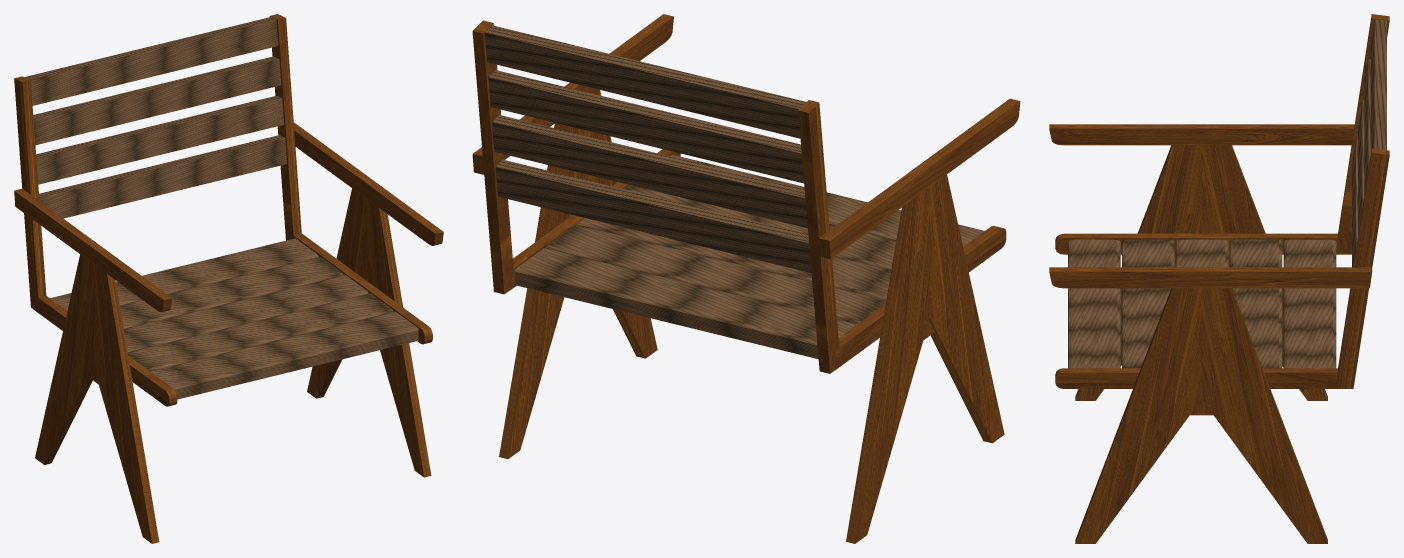
Rendered from Lulu-Chair.glb.
3 renders of one model, left to right at view 1: azimuth 30°, elevation 25°; view 2: azimuth 150°, elevation 25°; view 3: azimuth 270°, elevation 25°, orthographic. The views are drawn at different scales.
Parts seen in each view (by area): view 1: Cube.007, Cube.008, Cube.003, Cube.004, Cube.006, Cube.002; view 2: Cube.007, Cube.008, Cube.003, Cube.006, Cube.004, Cube.002; view 3: Cube.003, Cube.008, Cube.004, Cube.006, Cube.002, Cube.007.
Part boxes in pixels (box(x1,y1,x2,y2)): Cube.007: box(24, 17, 286, 218); Cube.008: box(50, 238, 418, 399); Cube.003: box(35, 188, 431, 543); Cube.004: box(14, 122, 443, 311); Cube.006: box(14, 14, 301, 310); Cube.002: box(35, 233, 432, 406); Cube.007: box(484, 25, 811, 272); Cube.008: box(514, 155, 984, 358); Cube.003: box(499, 90, 1004, 543); Cube.006: box(472, 20, 839, 373); Cube.004: box(472, 14, 1020, 259); Cube.002: box(509, 149, 1006, 369); Cube.003: box(1075, 145, 1327, 543); Cube.008: box(1068, 239, 1336, 368); Cube.004: box(1049, 124, 1372, 288); Cube.006: box(1335, 14, 1389, 388); Cube.002: box(1055, 233, 1344, 388); Cube.007: box(1352, 19, 1386, 267).
Size of the model in its own units: 0.5479 by 0.6718 by 0.5356.
Materials: 2 (2 with a texture image).
